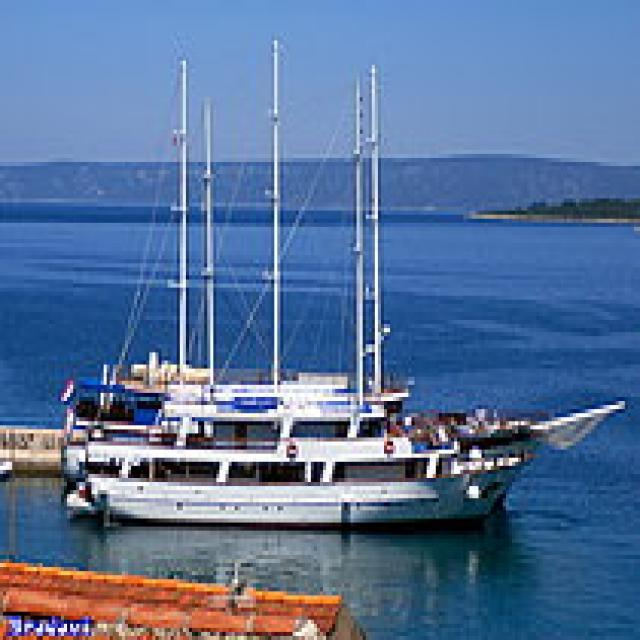Ship: (35, 345, 547, 532)
